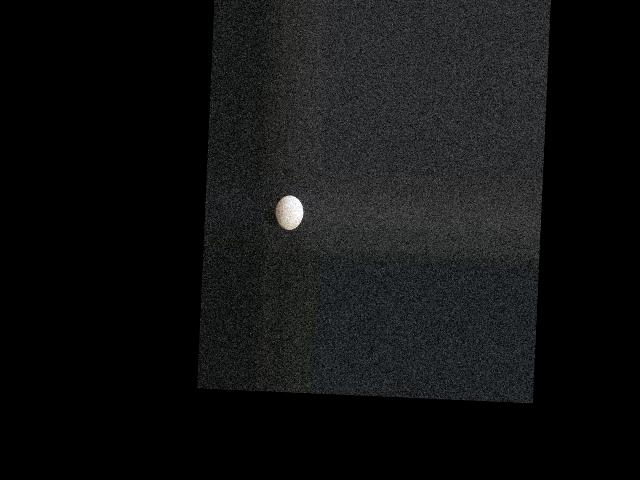egg: (274, 196, 303, 231)
